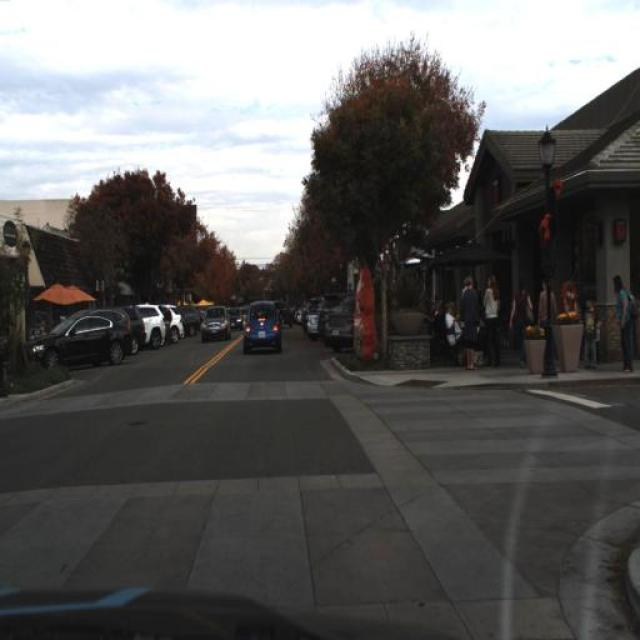car: (28, 312, 134, 373), (238, 293, 284, 358), (122, 300, 146, 356), (316, 290, 340, 346), (140, 301, 166, 350), (328, 297, 352, 345), (200, 302, 228, 342), (167, 300, 182, 336), (185, 300, 199, 335), (308, 303, 316, 339)
trafficLight: (610, 272, 634, 369), (462, 270, 481, 366), (511, 278, 532, 362), (484, 271, 498, 358), (583, 292, 599, 368), (536, 277, 555, 324), (562, 266, 577, 320), (442, 296, 458, 342), (300, 298, 306, 334)
